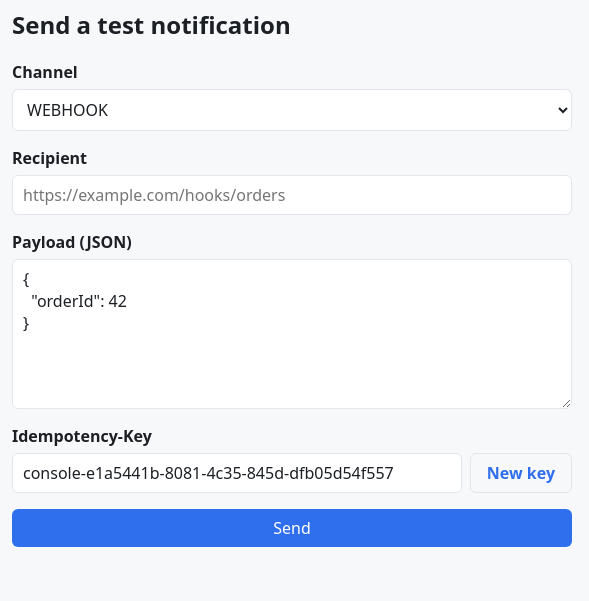
it: SendNotificationPage › shows the API validation error for a recipient in the wrong format
This screenshot has width=589, height=601.
Select "WHATSAPP" in the dropdown labelled "Channel" at (292, 110), box [12,89,572,131]
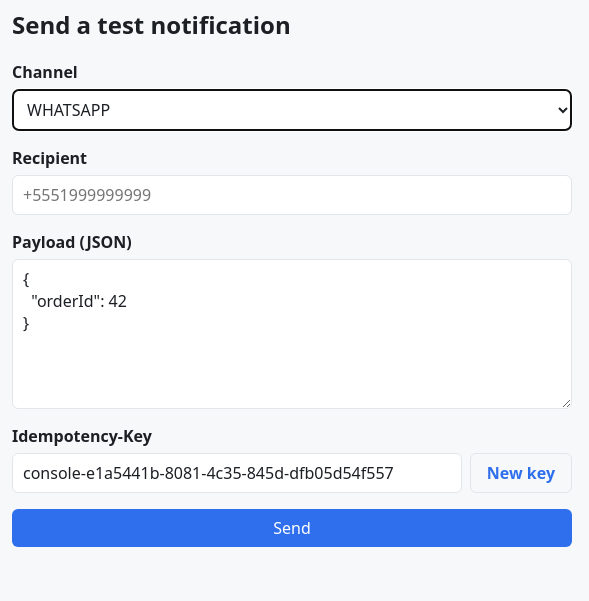
Type "51999999999" into the field labelled "Recipient".
click(292, 195); type("51999999999")  # box [12,175,572,215]
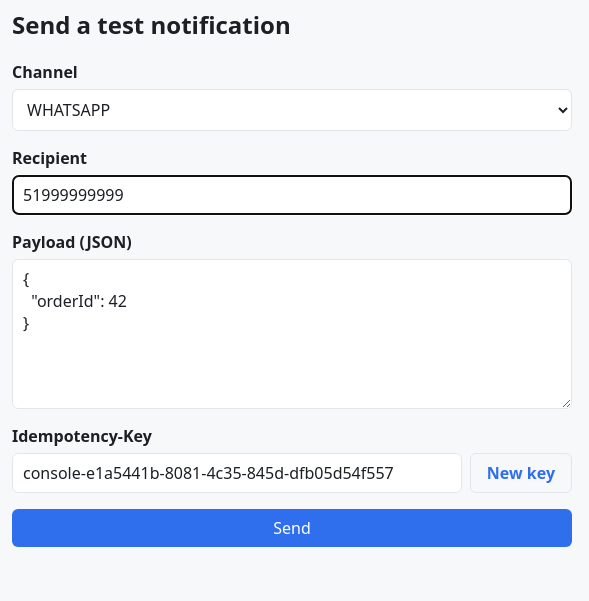
Click the button "Send".
click(292, 528)  # box [12,509,572,547]
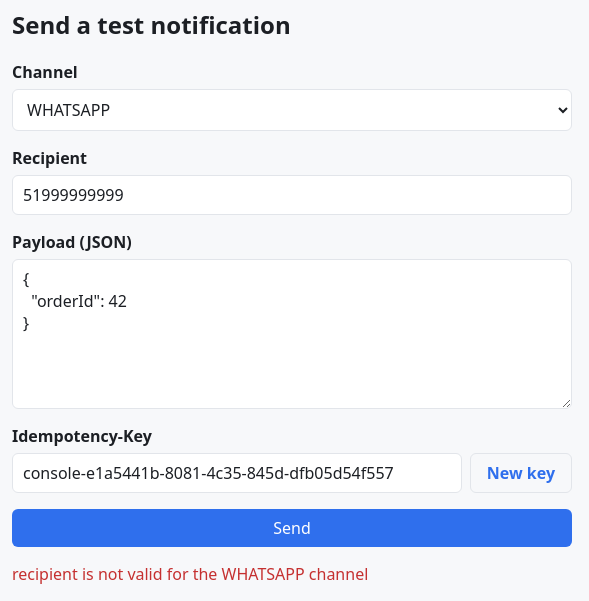
Result: the message shows "not valid for the WHATSAPP channel" at [12,563,368,585]
